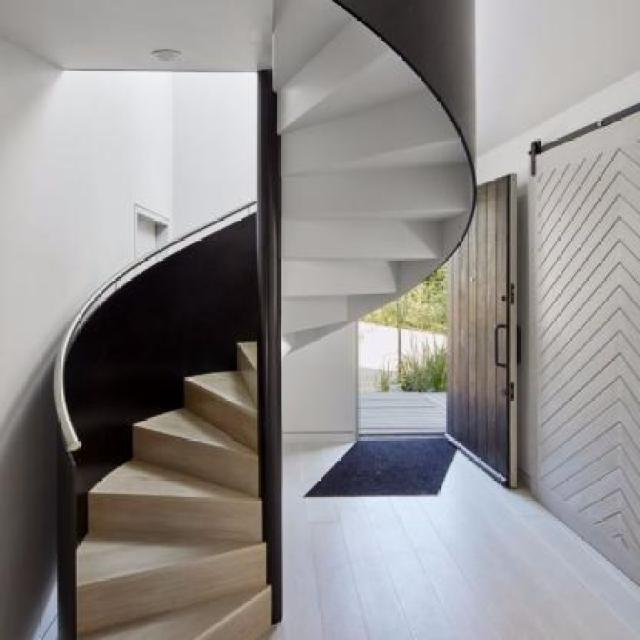stair: (14, 0, 491, 638)
